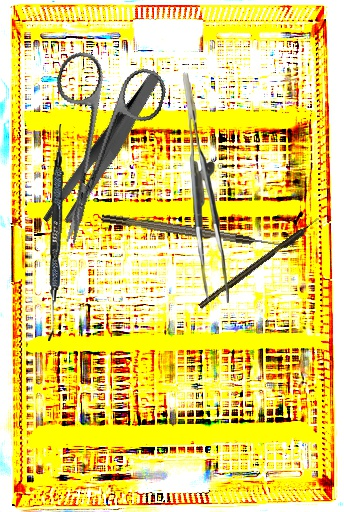Dressing Forceps: (15, 71, 193, 234)
Hook Surgical: (197, 216, 322, 310), (100, 212, 284, 251)
Iris Scissors: (14, 46, 171, 258)
Spatula Surgical: (47, 123, 65, 342)
Tissue Forceps: (183, 73, 229, 303)
